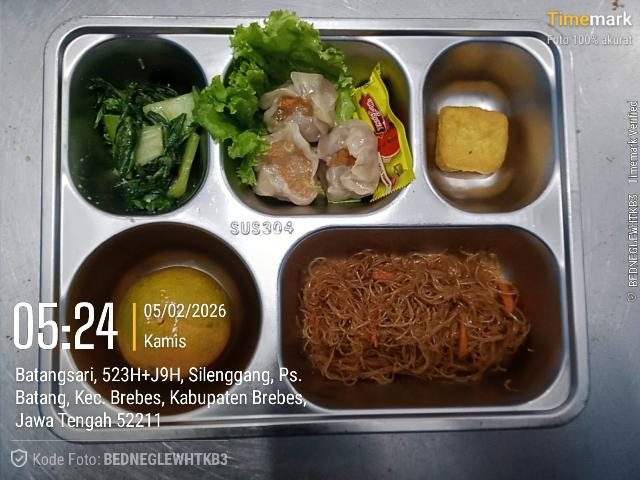ayam: (253, 123, 319, 205)
buah: (116, 266, 231, 377)
mie: (297, 250, 530, 384)
sayur: (196, 10, 354, 186), (89, 77, 199, 212)
tahu: (436, 106, 508, 174)
